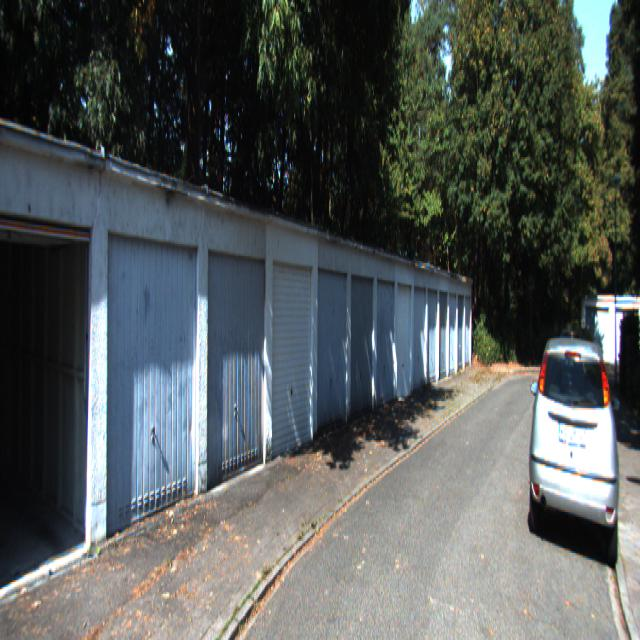Car: (531, 331, 622, 567)
